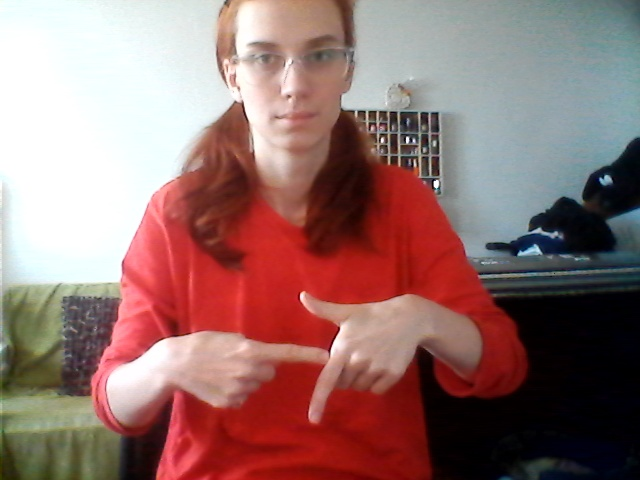f: (182, 284, 423, 439)
